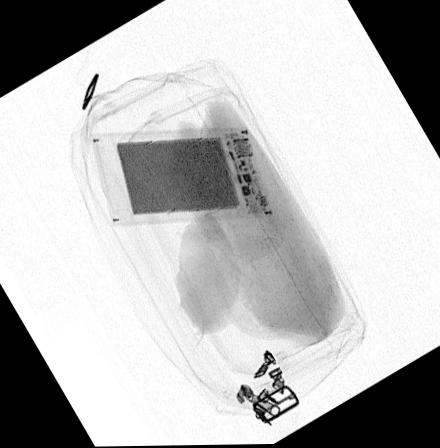Powerbank: (88, 126, 272, 227)
